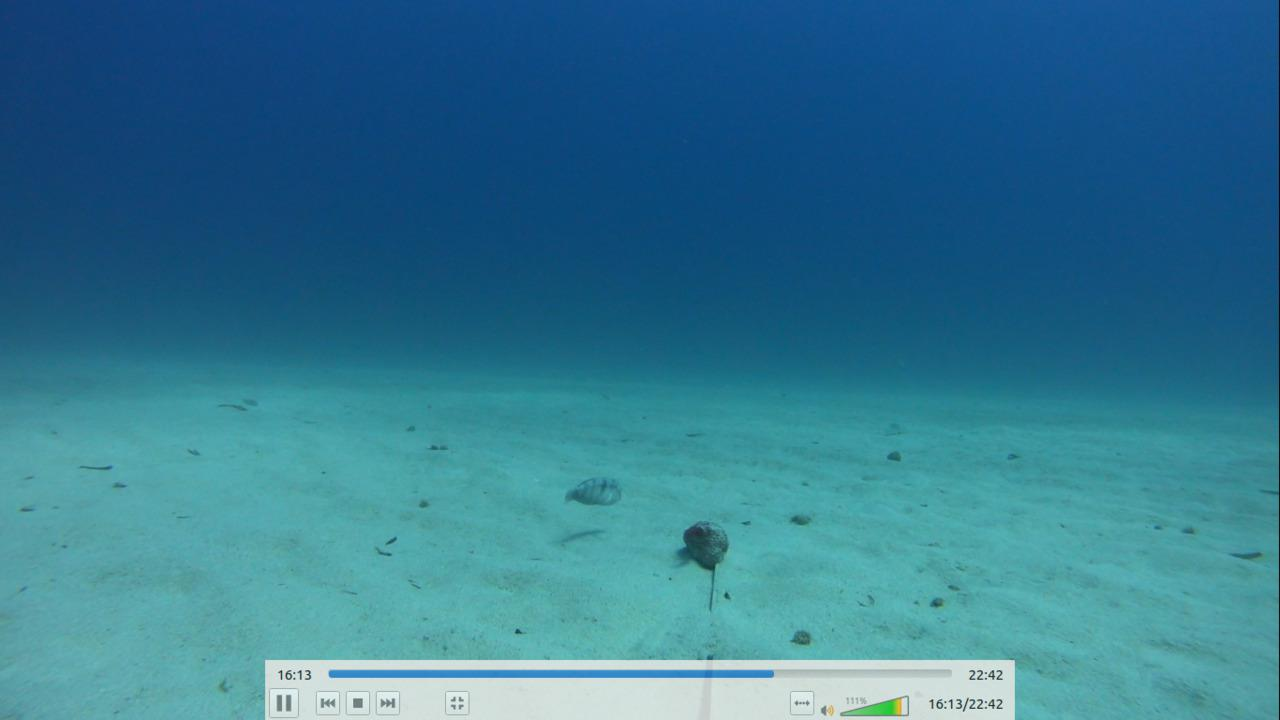raor: (551, 469, 626, 512)
